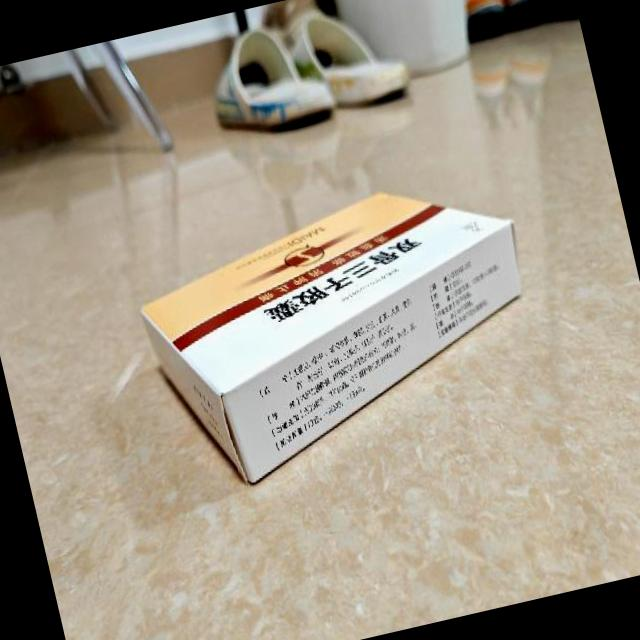box: (127, 162, 558, 500)
